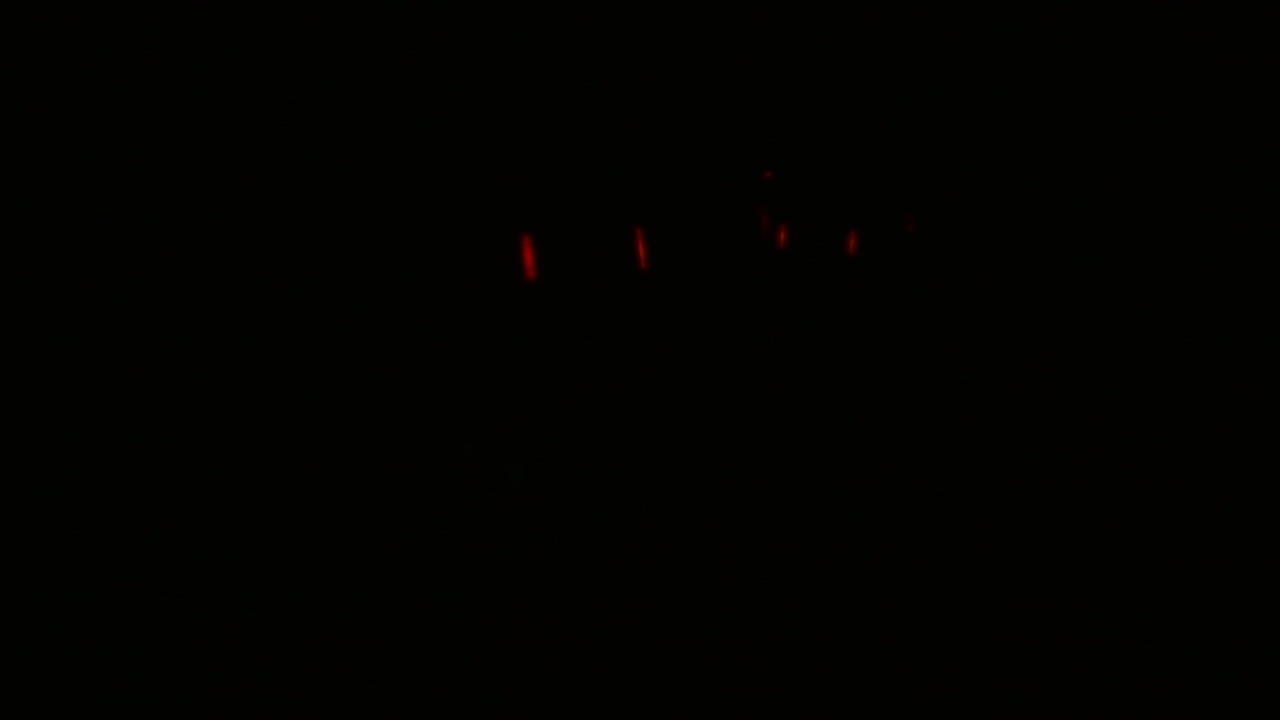pair1: (512, 214, 656, 284)
pair2: (772, 213, 862, 263)
